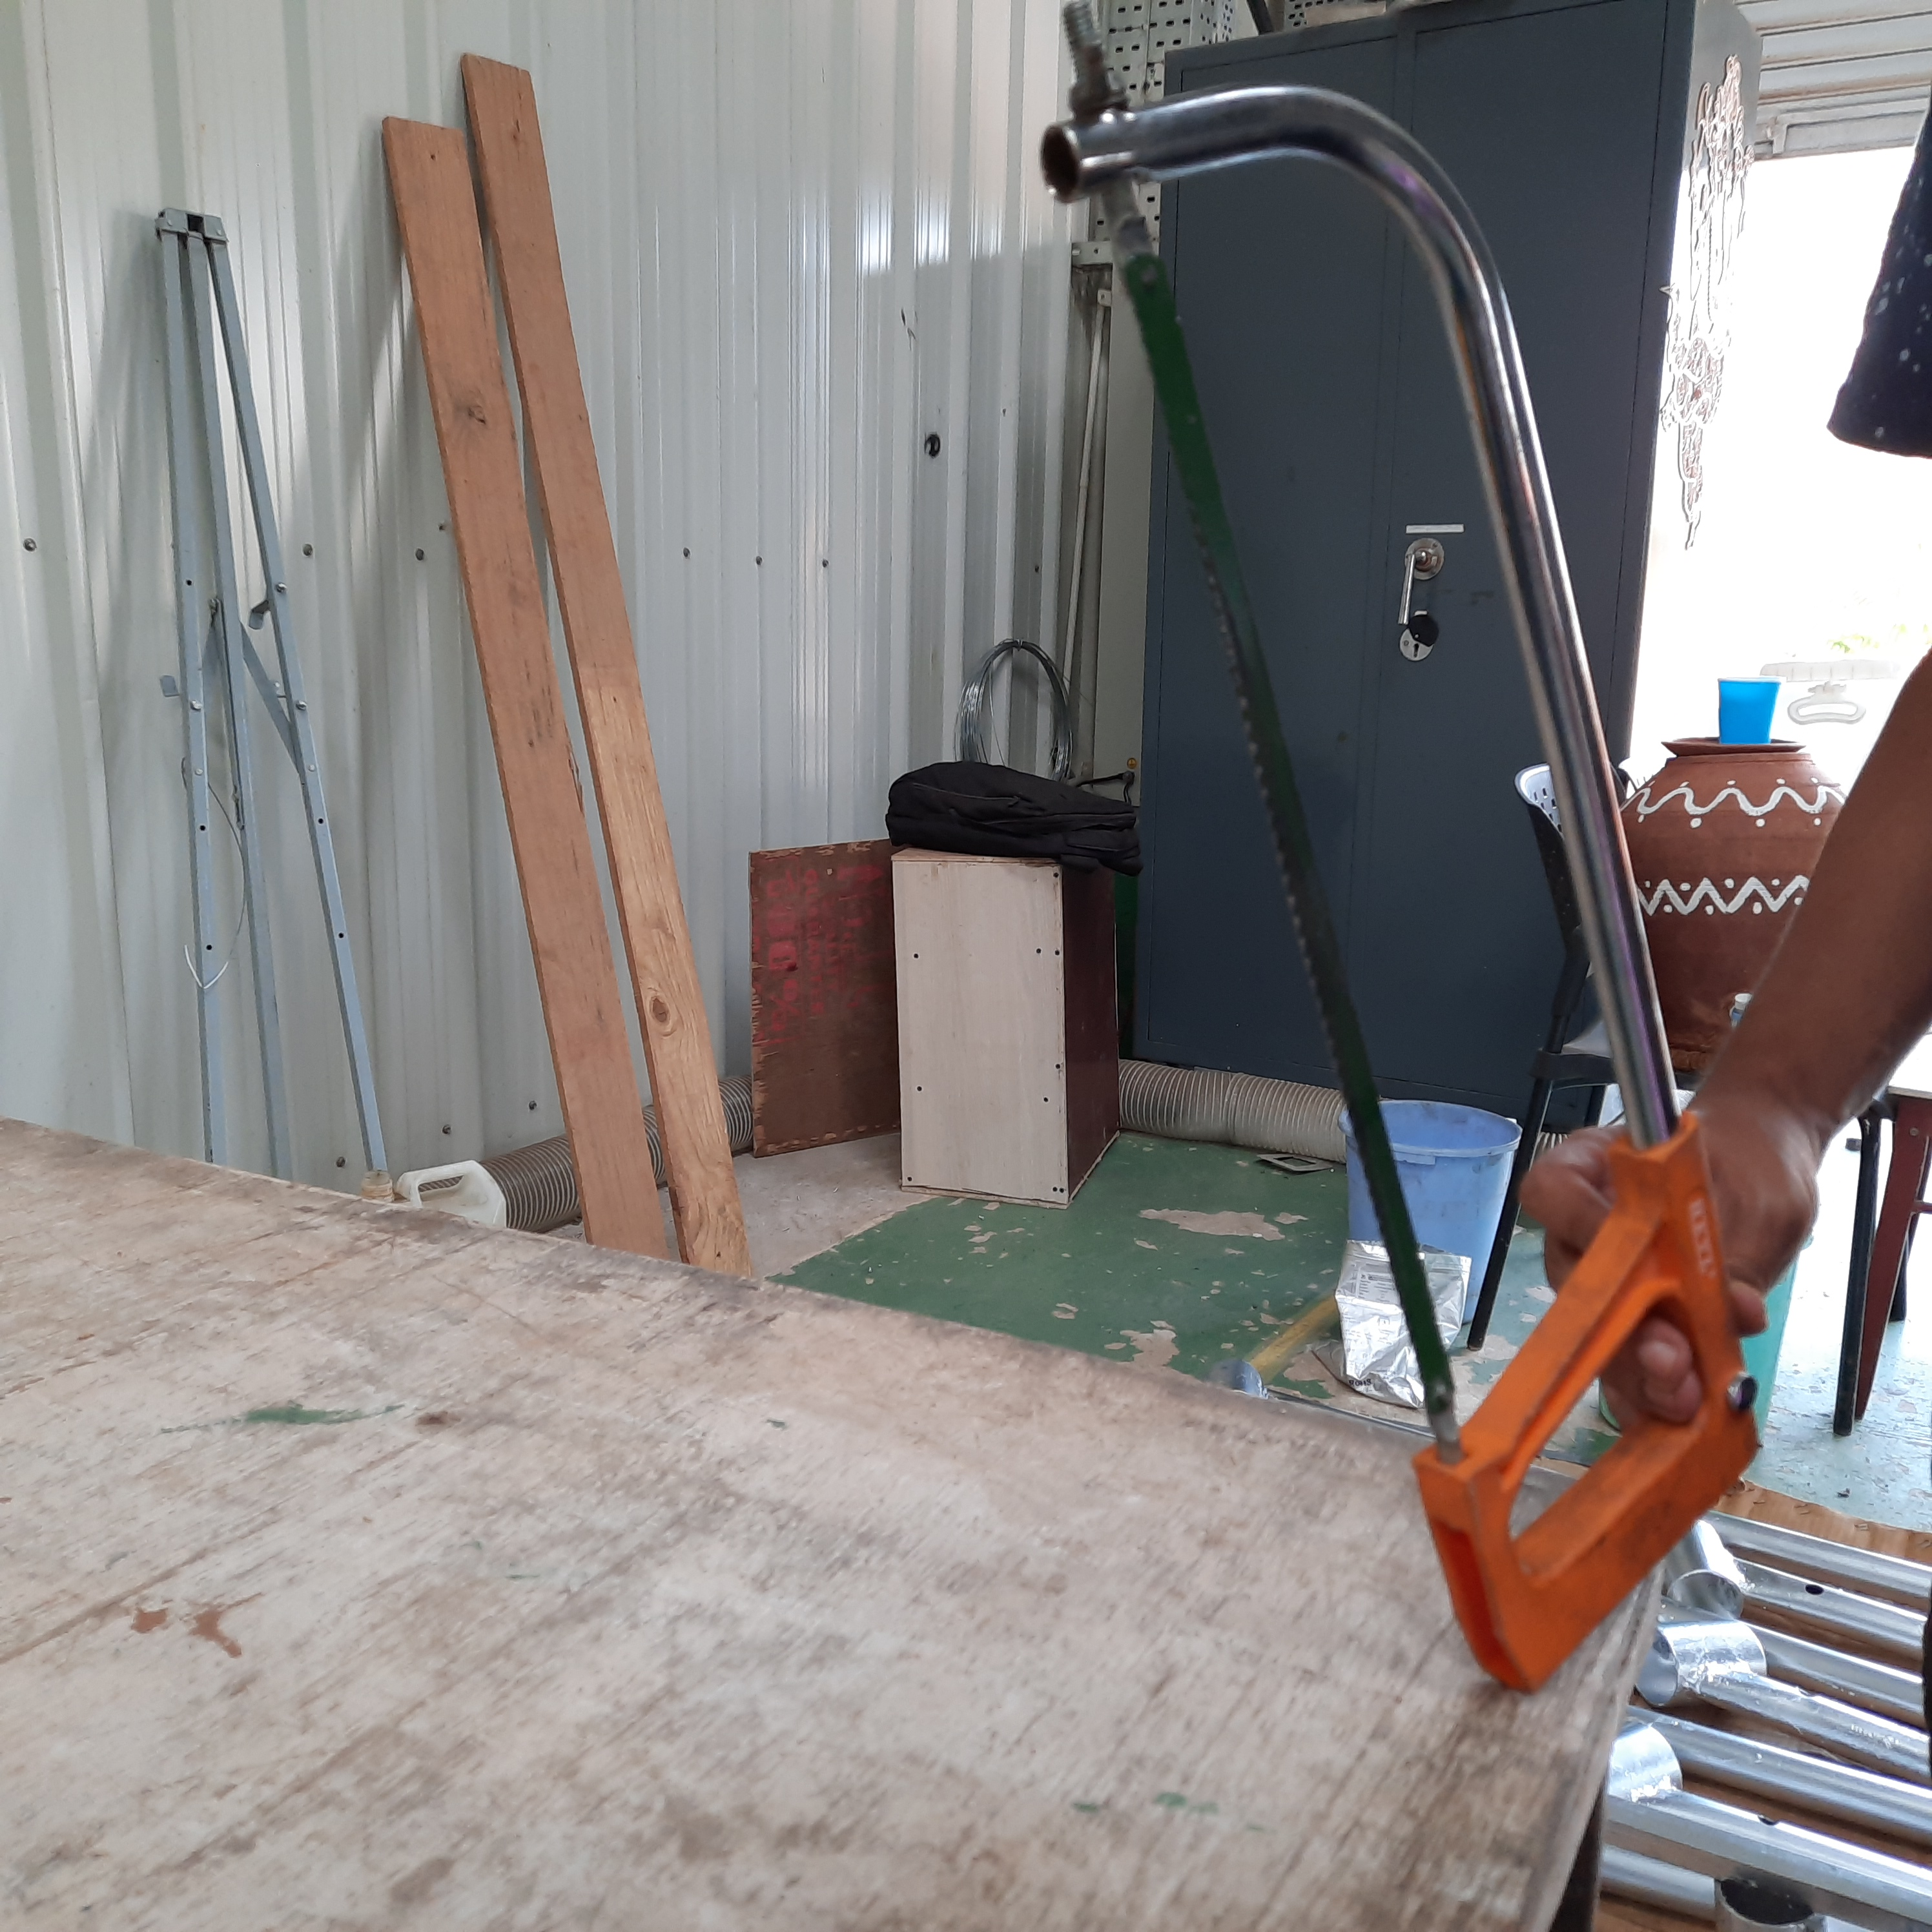Hexaframe: (1023, 27, 1803, 1709)
